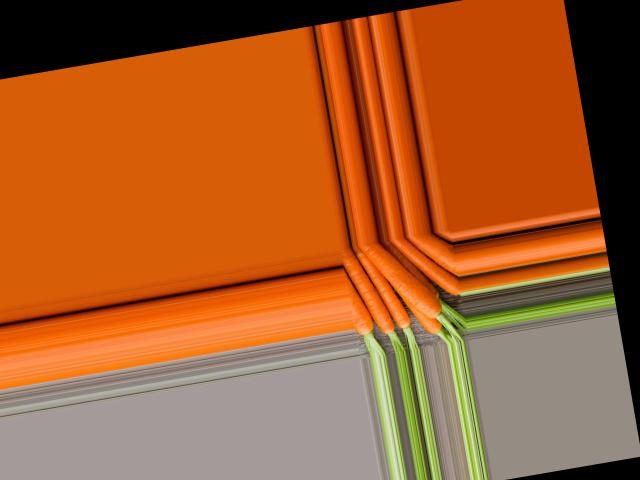carrot: (397, 229, 460, 303)
